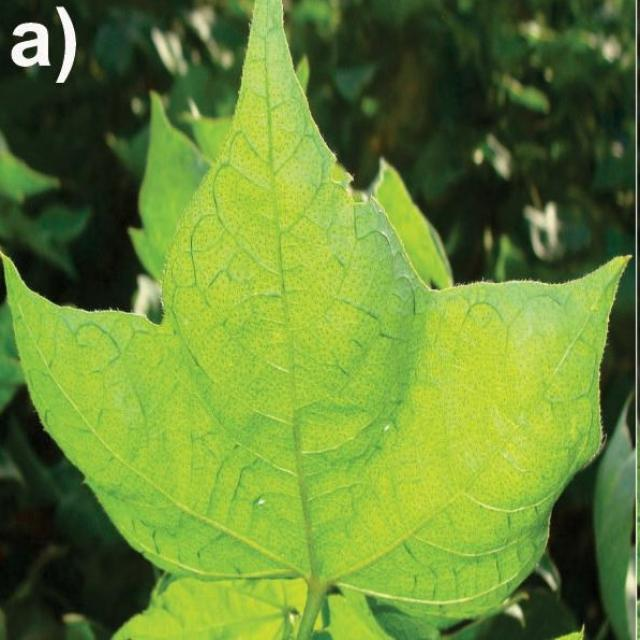Leaf Curl Virus: (149, 122, 475, 596)
